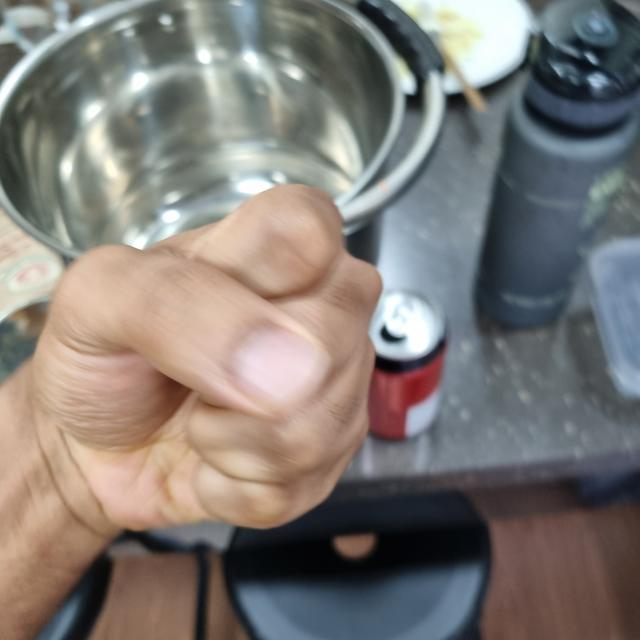Rock: (27, 182, 387, 535)
